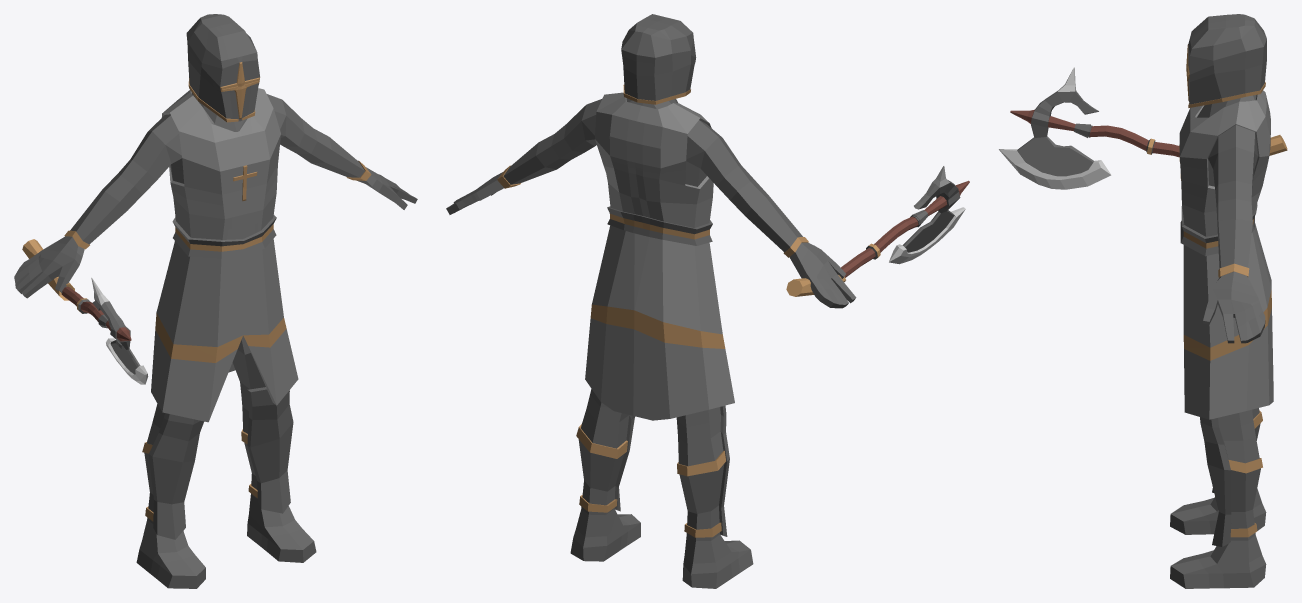
The model's file is AxeMan (2).fbx.
The picture shows the model from 3 angles, left to right: view 1: azimuth 30°, elevation 25°; view 2: azimuth 150°, elevation 25°; view 3: azimuth 270°, elevation 25°; orthographic projection.
Parts seen in each view (by area): view 1: Axe Man; view 2: Axe Man; view 3: Axe Man.
Part boxes in pixels (left/top/right/bottom): Axe Man: left=14, top=14, right=417, bottom=588; Axe Man: left=446, top=14, right=969, bottom=588; Axe Man: left=999, top=14, right=1287, bottom=588.
Size of the model in its own units: 394 by 496 by 244.
